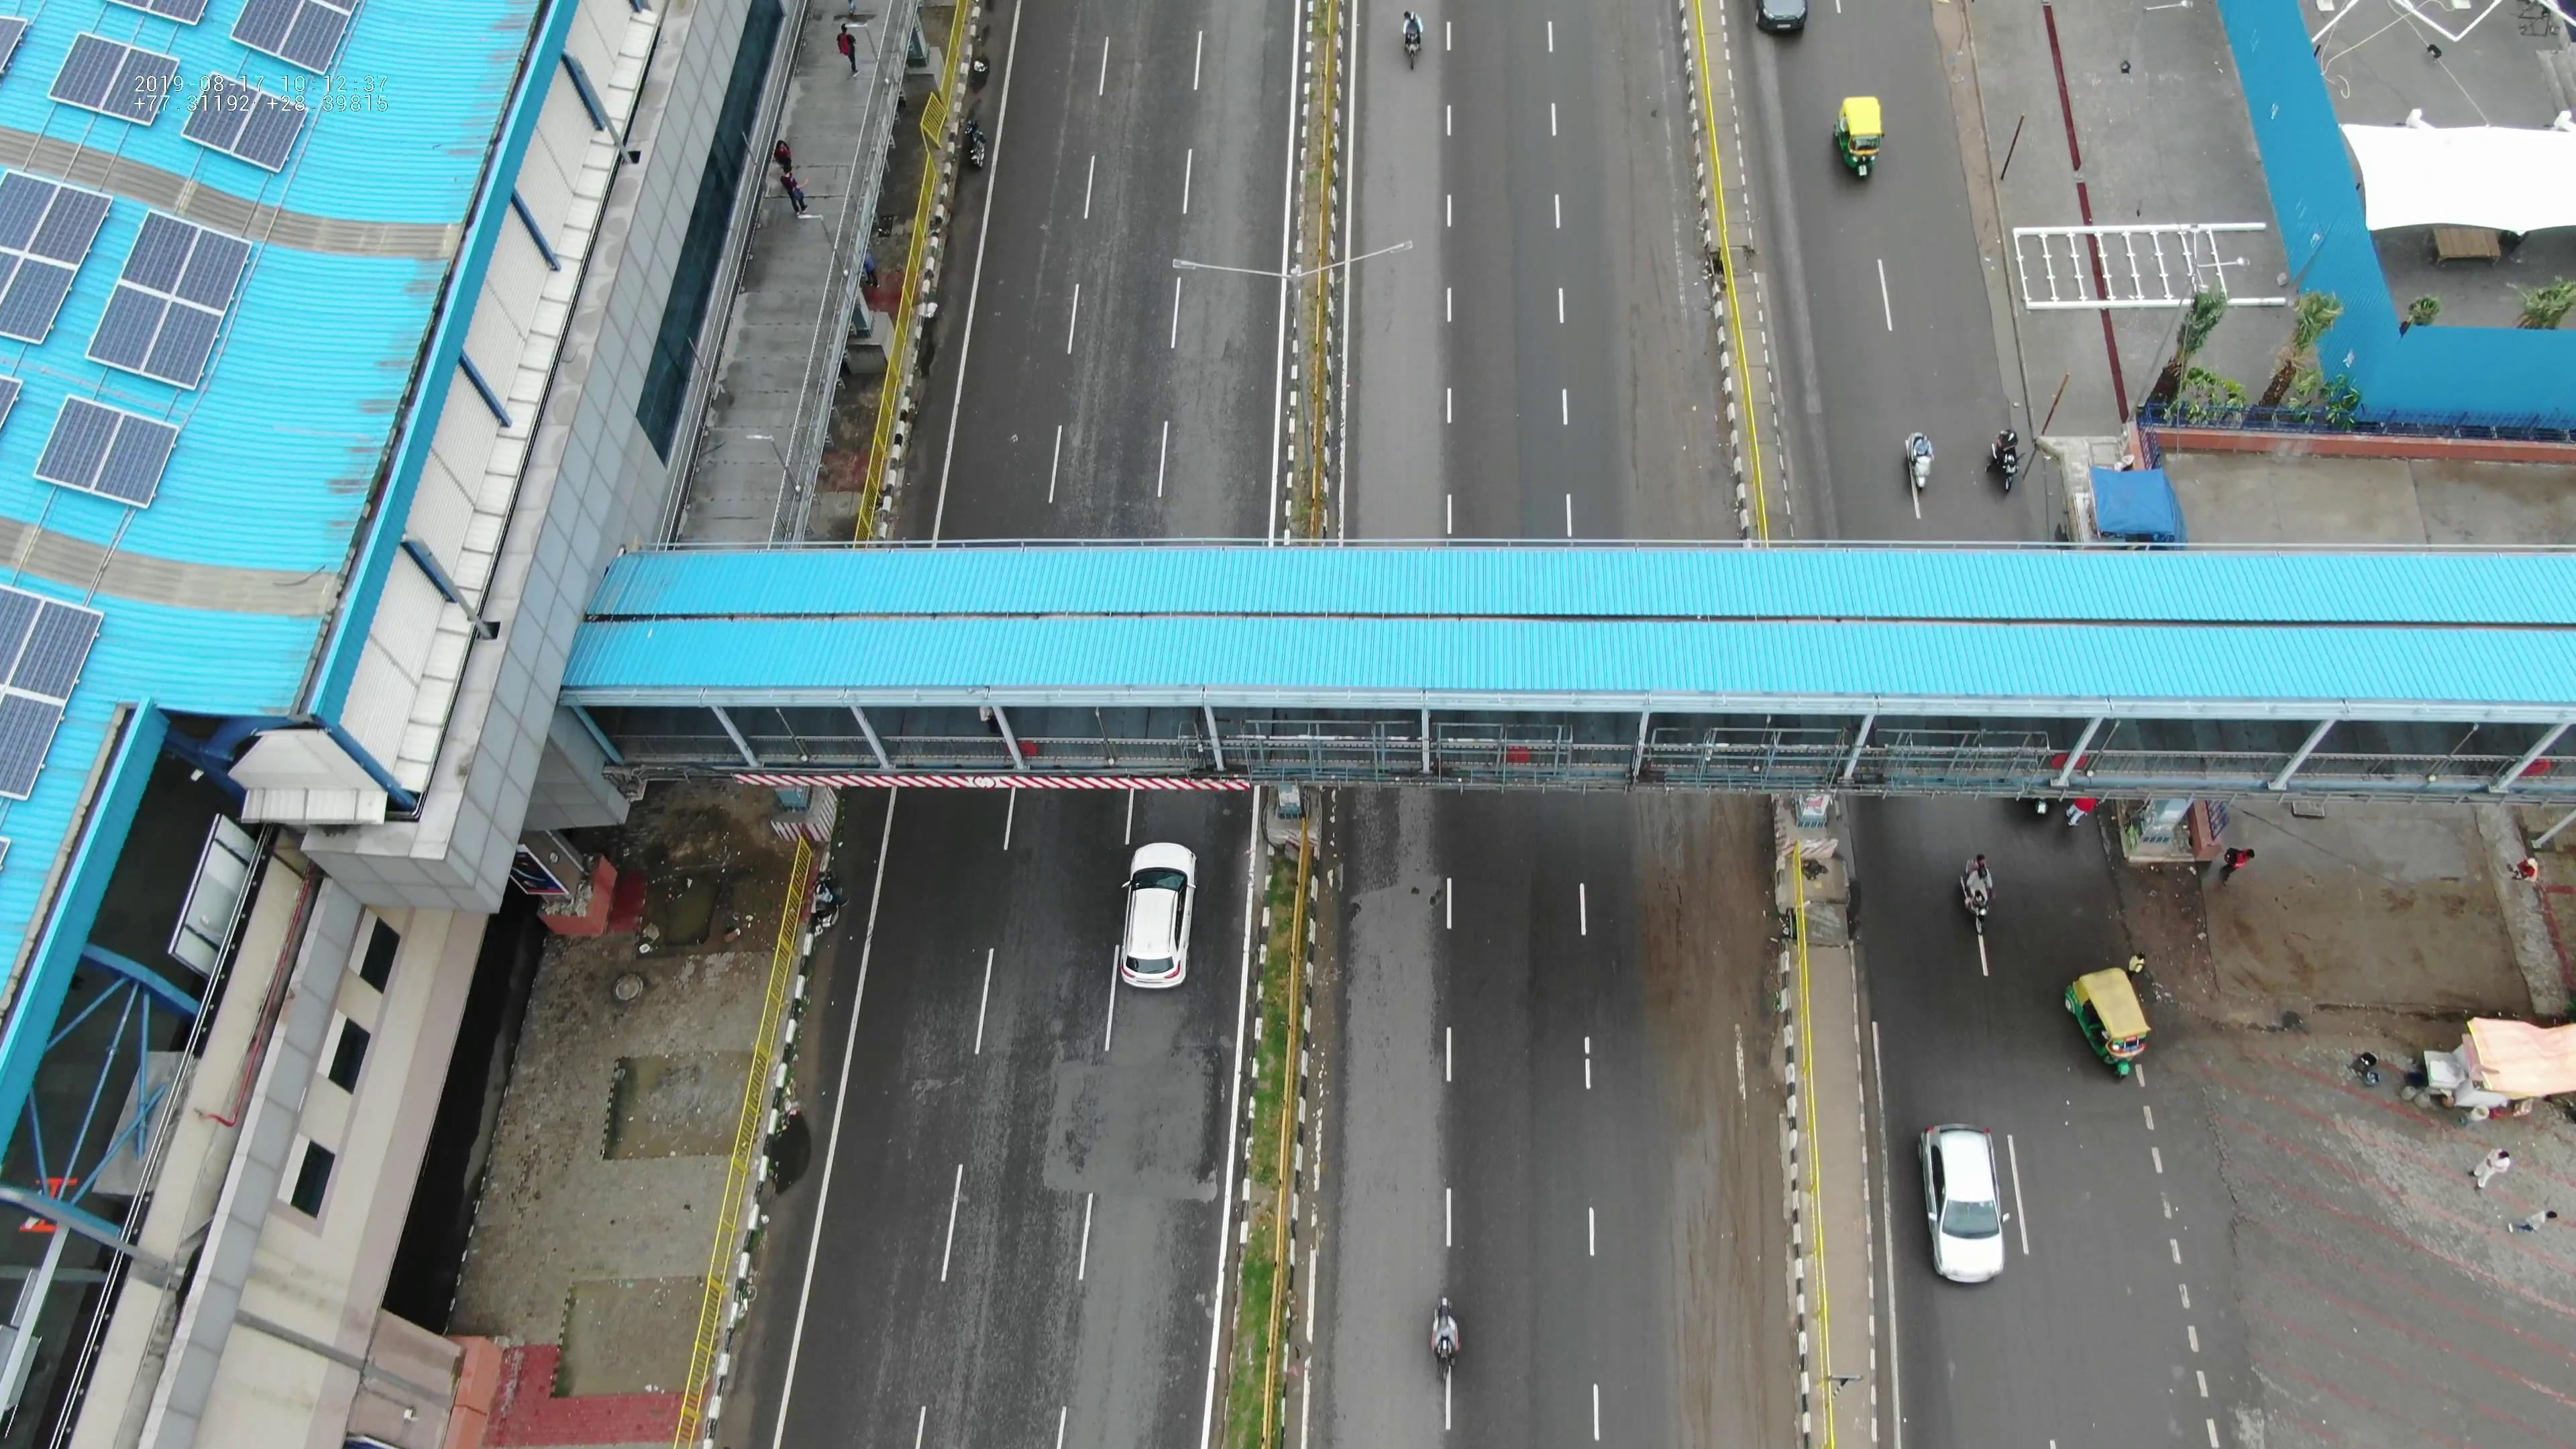Muddy_road: (1614, 832, 1750, 1444), (1601, 258, 1725, 524)
